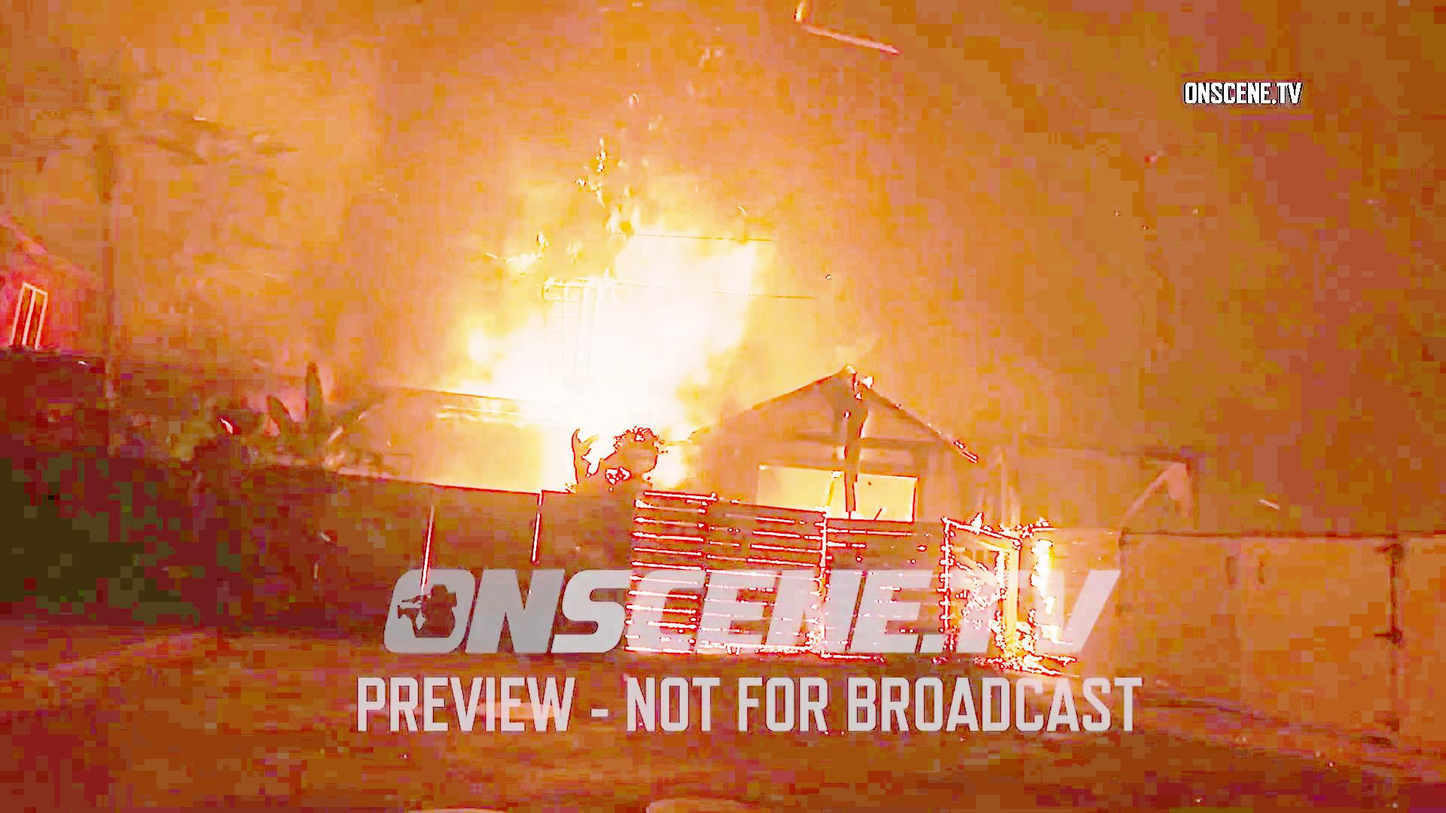smoke: (861, 158, 1175, 386), (207, 27, 472, 217)
